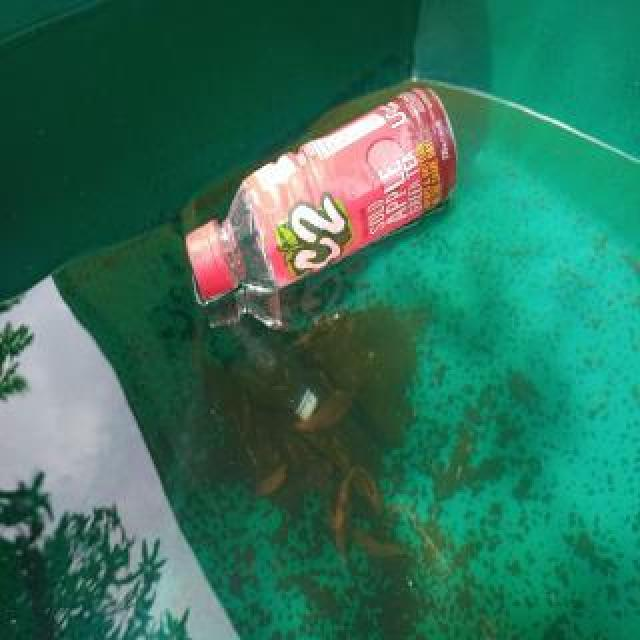bottle: (185, 80, 459, 302)
